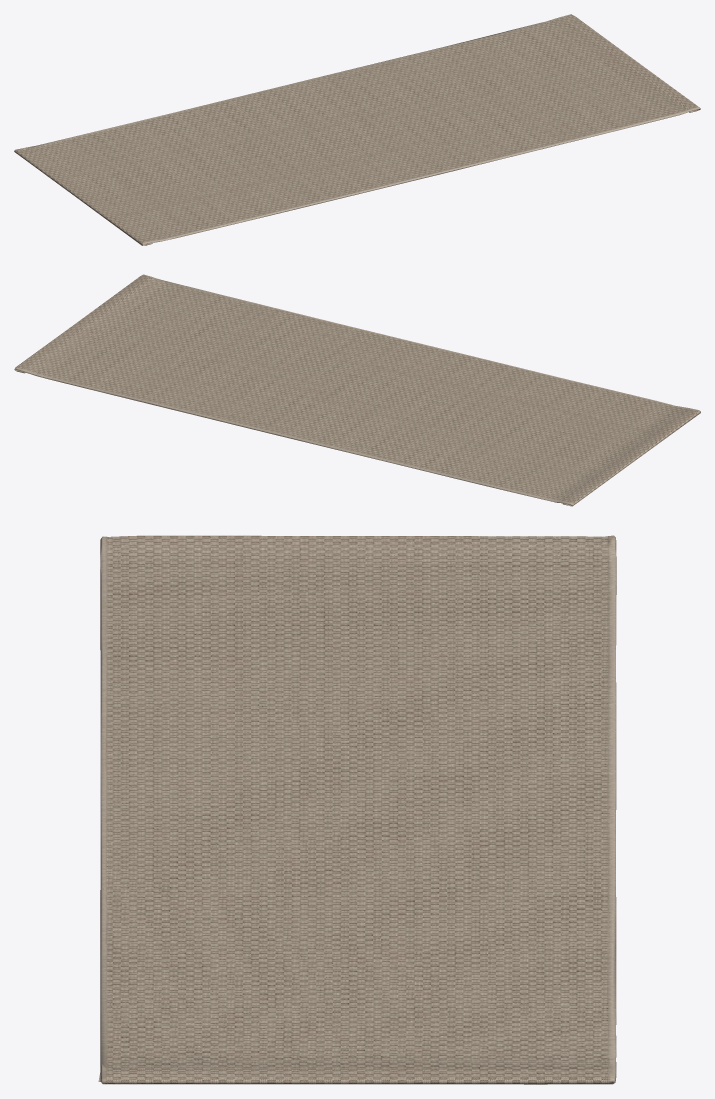
File: morum_dywan_tkany_na_pasko_wewn_zewn_80624160.glb
3 renders of one model, top to bottom at view 1: azimuth 30°, elevation 25°; view 2: azimuth 150°, elevation 25°; view 3: azimuth 270°, elevation 25°, orthographic. The views are drawn at different scales.
Parts seen in each view (by area): view 1: morum_dywan_tkany_na_pasko_wewn_zewn_80624160; view 2: morum_dywan_tkany_na_pasko_wewn_zewn_80624160; view 3: morum_dywan_tkany_na_pasko_wewn_zewn_80624160.
Part boxes in pixels (box(x1,y1,x2,y2)): morum_dywan_tkany_na_pasko_wewn_zewn_80624160: box(14, 14, 700, 245); morum_dywan_tkany_na_pasko_wewn_zewn_80624160: box(14, 274, 700, 506); morum_dywan_tkany_na_pasko_wewn_zewn_80624160: box(98, 535, 616, 1084).
Size of the model in its own units: 2 by 0.0119 by 0.8009.
1 material, 1 textured.
